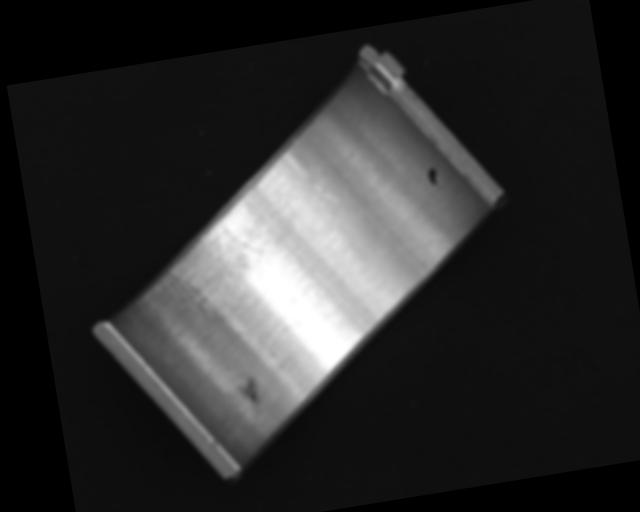blot: (425, 166, 439, 187)
bruise: (237, 372, 261, 406)
nick: (281, 144, 342, 227)
scratch: (132, 202, 292, 329)
